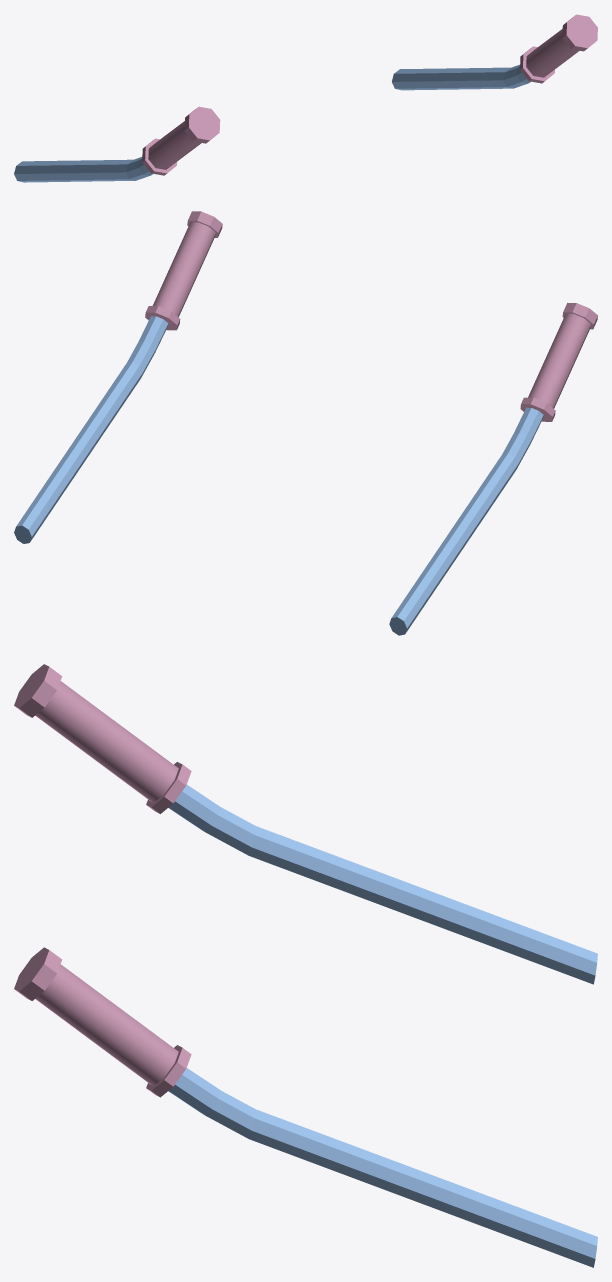
Rendered from tank1stfloor_lever.FBX.
3 views of the same model, one above another, from view 1: azimuth 30°, elevation 25°; view 2: azimuth 150°, elevation 25°; view 3: azimuth 270°, elevation 25° (orthographic). The views are drawn at different scales.
Parts seen in each view (by area): view 1: tank1stfloor_lever; view 2: tank1stfloor_lever; view 3: tank1stfloor_lever.
Part boxes in pixels (x1,y1,x2,y2): tank1stfloor_lever: [14, 14, 597, 182]; tank1stfloor_lever: [14, 211, 597, 635]; tank1stfloor_lever: [14, 664, 597, 1267].
Bounding box in the file's own units: 22.37 × 10.73 × 17.94.
